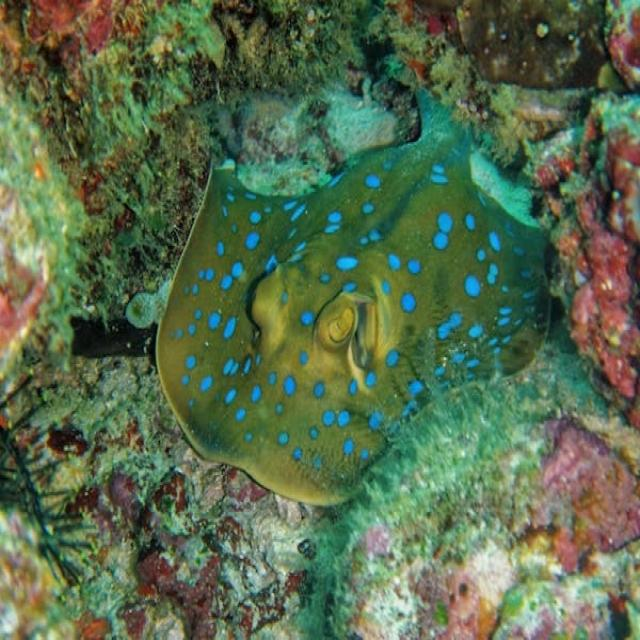stingray: (156, 122, 548, 503)
